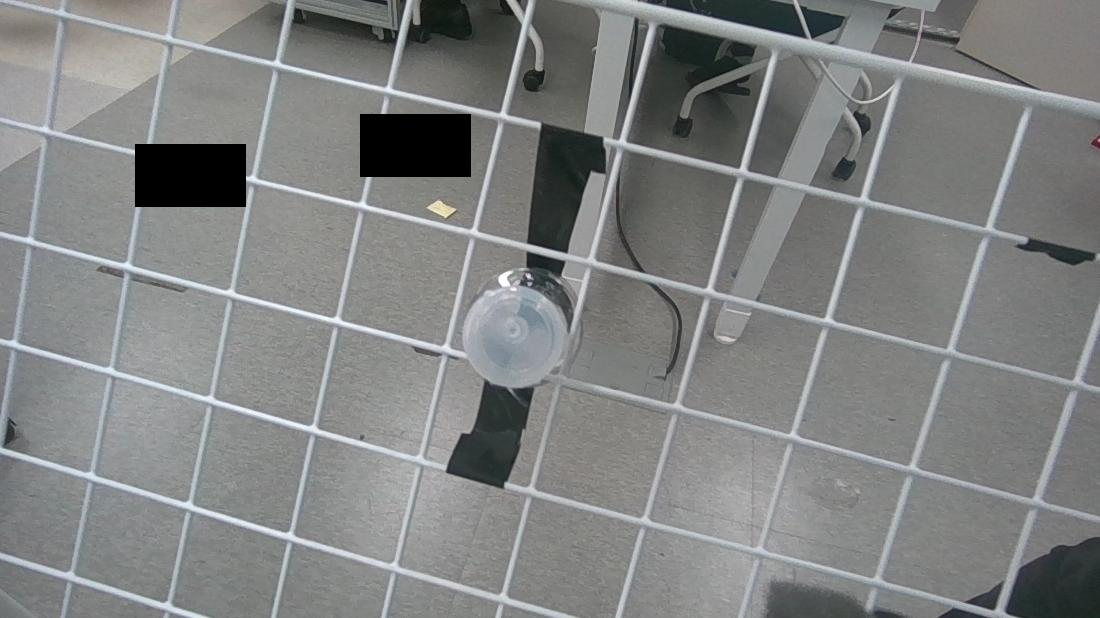Cap: (460, 281, 571, 388)
